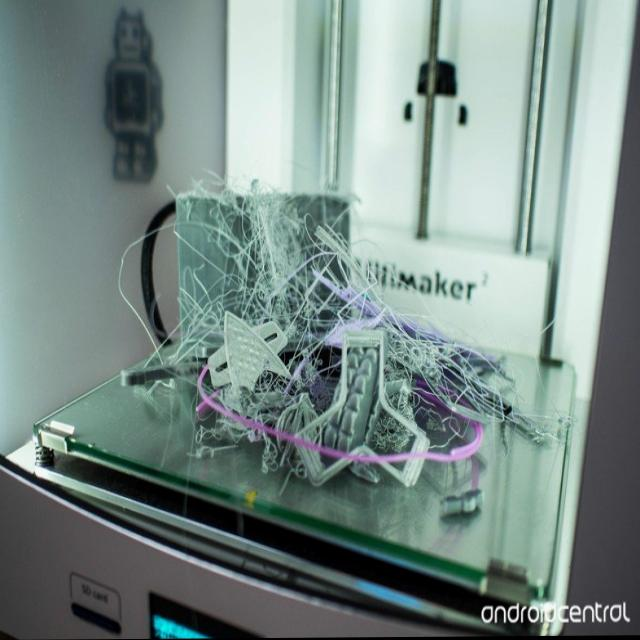spaghetti: (132, 144, 530, 561)
